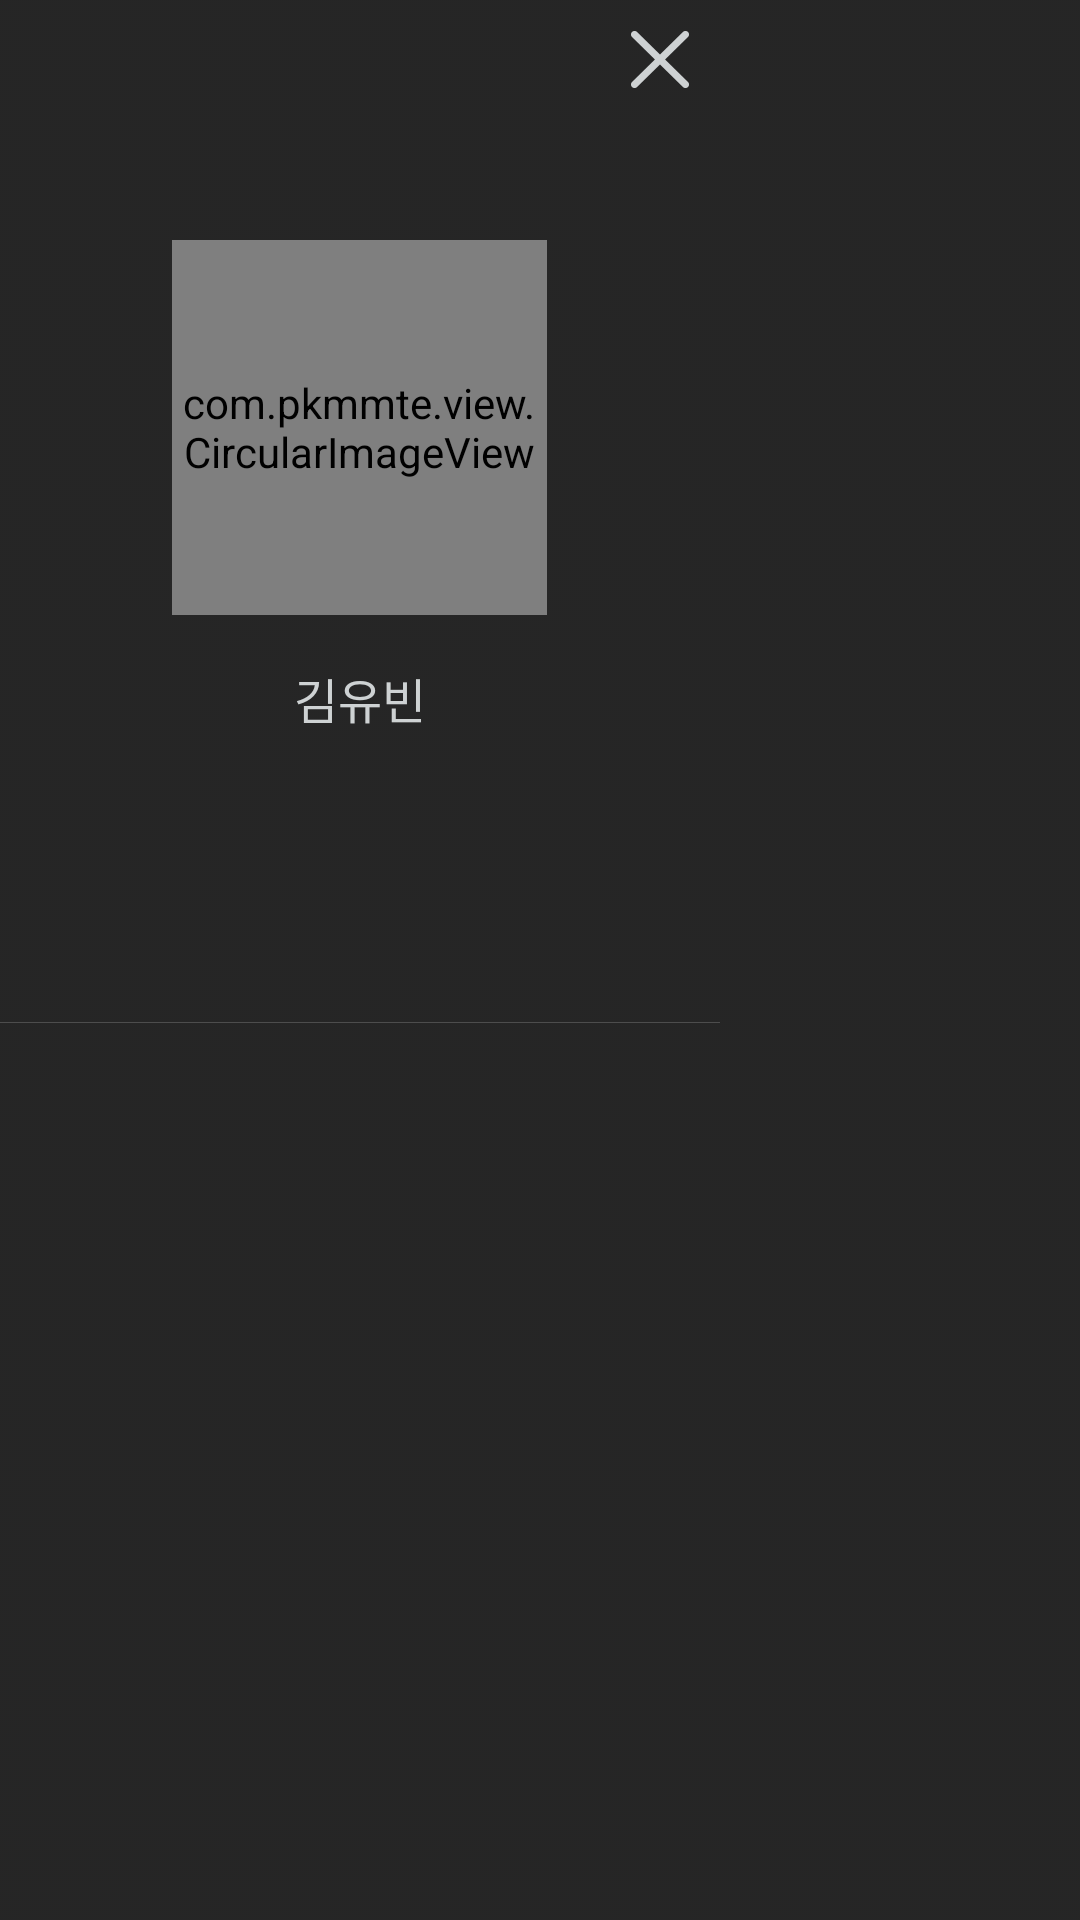

Locate icon controls on the screen. Image size 1080×1920, boxes as BBox(x1, y1, x2, y2).
close: BBox(631, 31, 689, 88)
